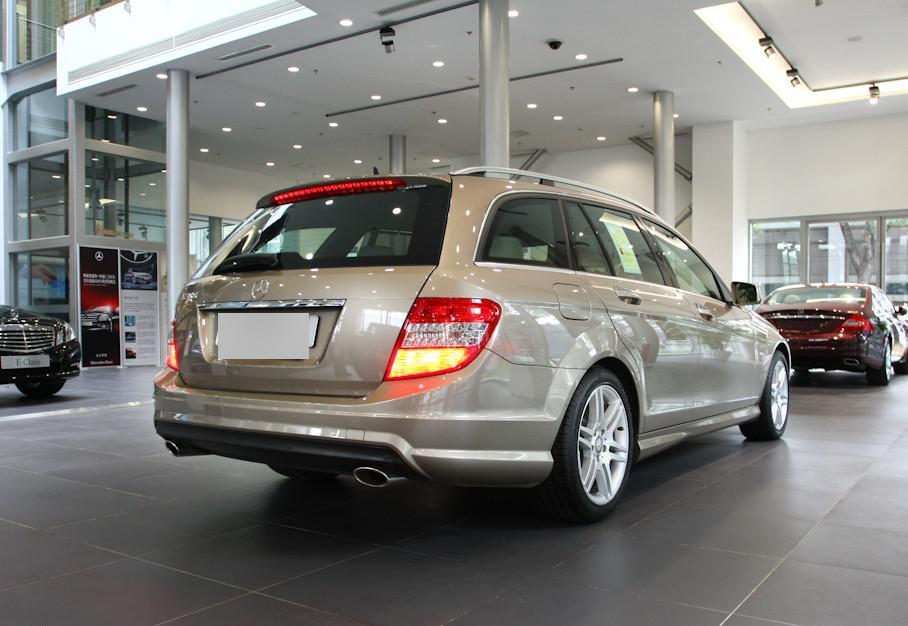Wagon: (153, 172, 794, 522)
